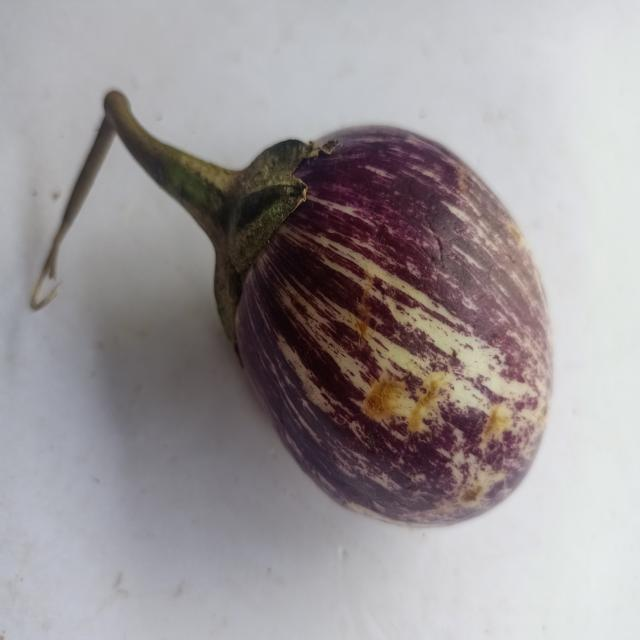Eggplant: (25, 69, 578, 541)
